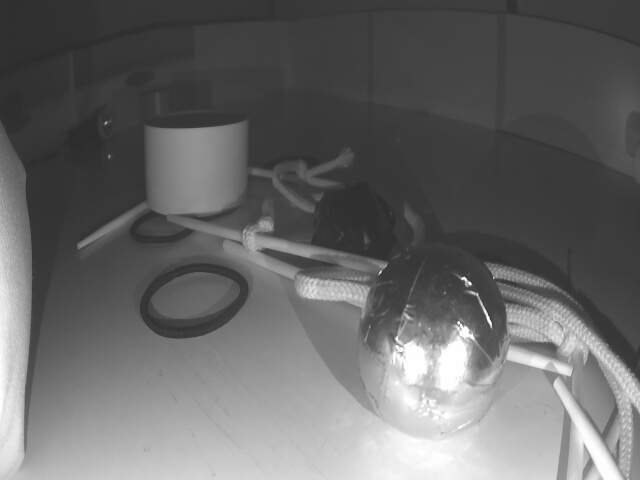Dead: (315, 185, 396, 274)
Live: (352, 237, 511, 448)
